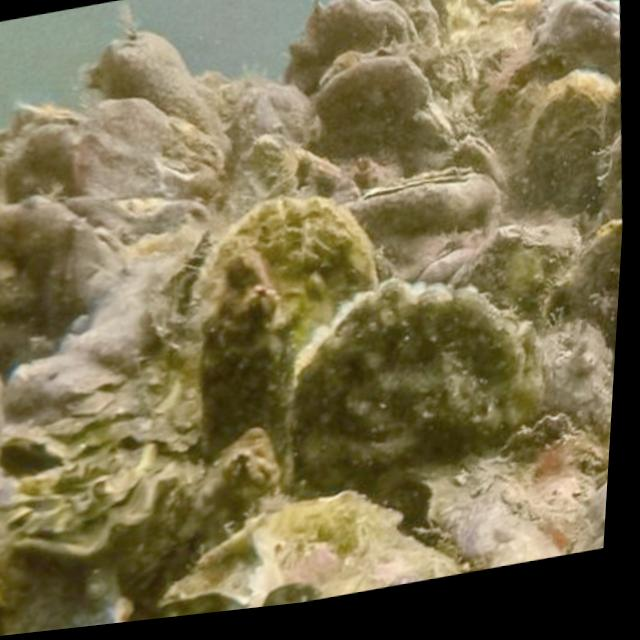Oyster-Closed: (353, 167, 503, 289), (535, 0, 620, 79), (445, 134, 506, 191)
Oyster-Indeterminate: (290, 282, 542, 491), (205, 186, 380, 352), (0, 192, 108, 380), (205, 258, 293, 482), (315, 53, 448, 185), (539, 222, 622, 318)
Oyster-Open: (3, 455, 152, 557)
